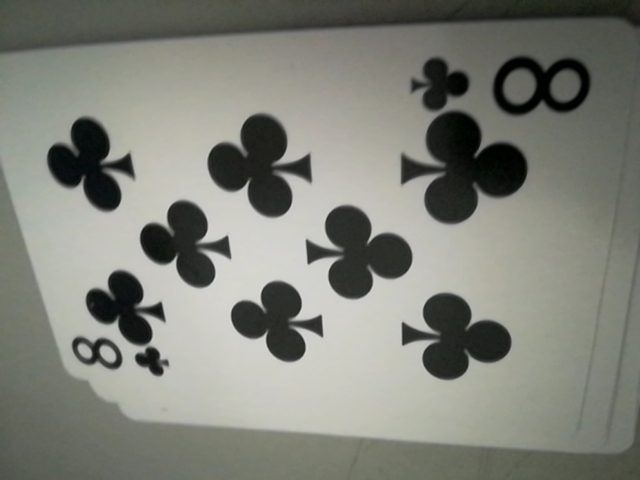mh 8: (409, 40, 590, 121), (63, 330, 166, 384)
